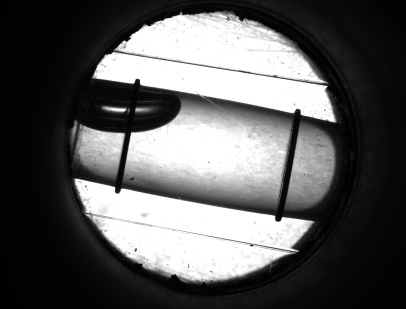line: (271, 130, 302, 204), (112, 139, 133, 172)
